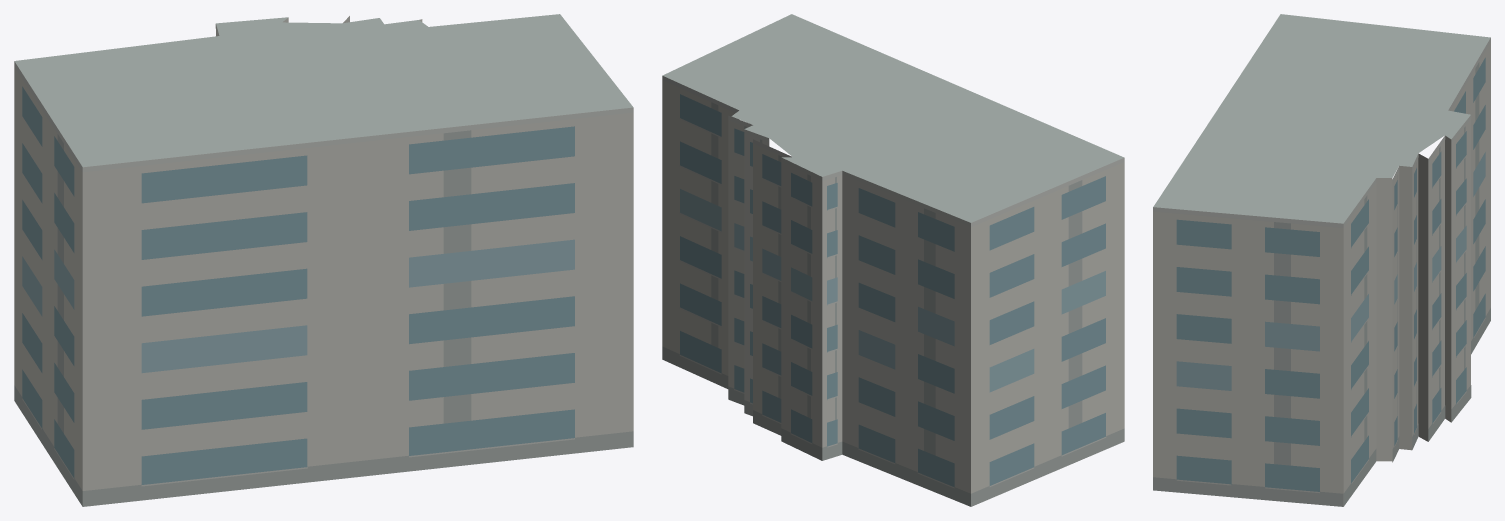
The model's file is survey-upis-32798631.glb.
3 views of the same model, side by side, from view 1: azimuth 30°, elevation 25°; view 2: azimuth 150°, elevation 25°; view 3: azimuth 270°, elevation 25° (orthographic). The views are drawn at different scales.
Parts seen in each view (by area): view 1: survey-upis-32798631.tmp; view 2: survey-upis-32798631.tmp; view 3: survey-upis-32798631.tmp.
Boxes of the visible parts, x1,y1,x2,y2 form: survey-upis-32798631.tmp: (14, 14, 633, 506); survey-upis-32798631.tmp: (662, 14, 1124, 506); survey-upis-32798631.tmp: (1153, 14, 1490, 506).
Size of the model in its own units: 25.09 by 15.8 by 17.08.
